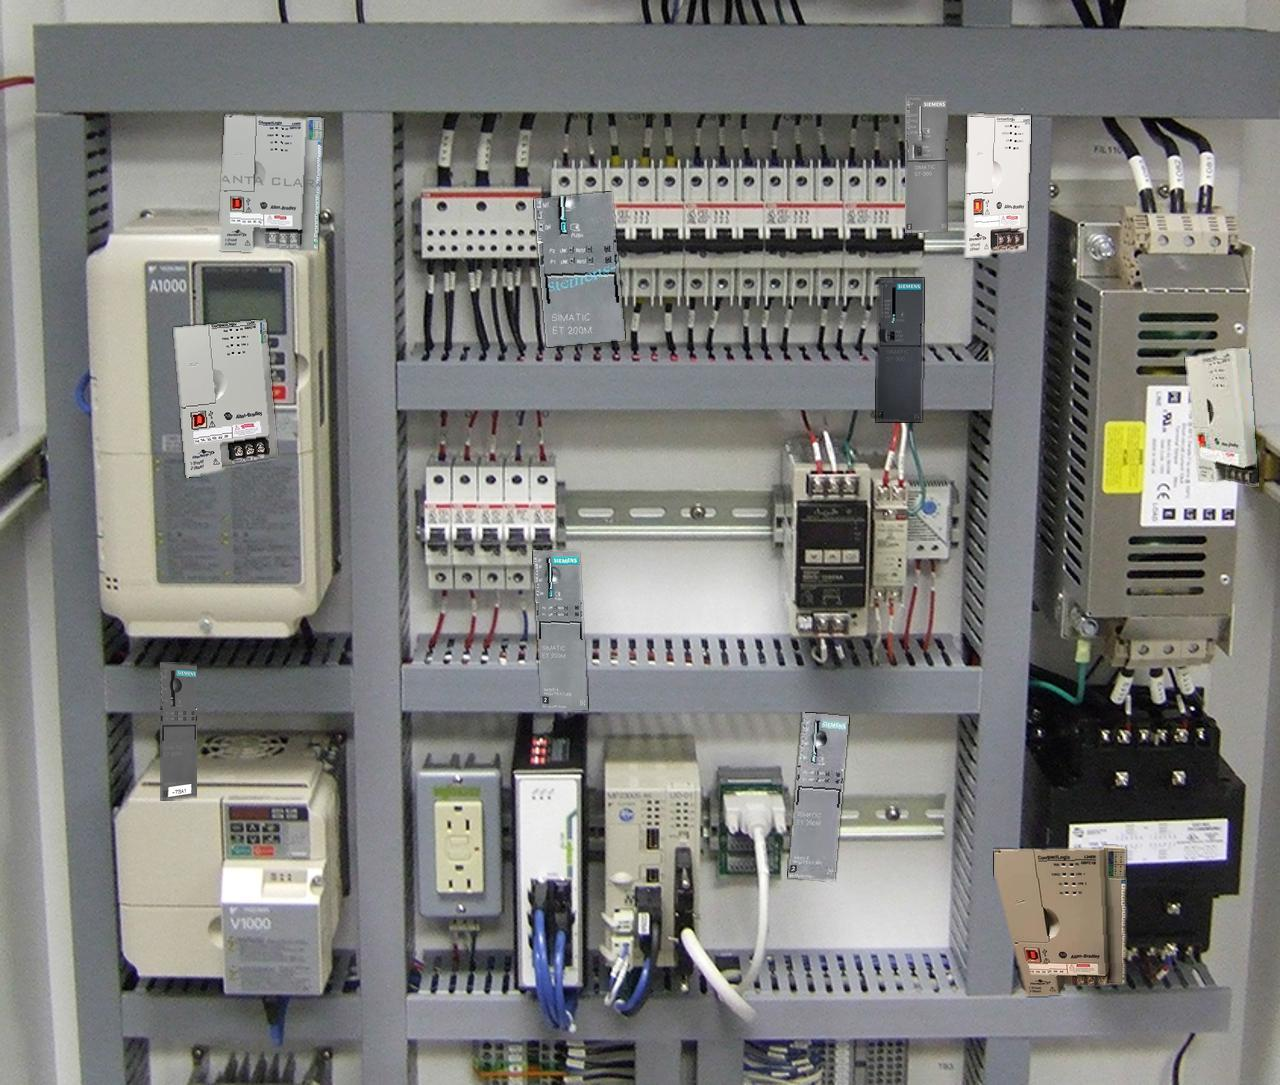AllenBradley: (994, 846, 1125, 995), (174, 320, 276, 477), (220, 115, 323, 251), (1185, 348, 1258, 487), (965, 114, 1030, 257)
Siemens: (876, 278, 923, 421), (905, 95, 947, 232)
